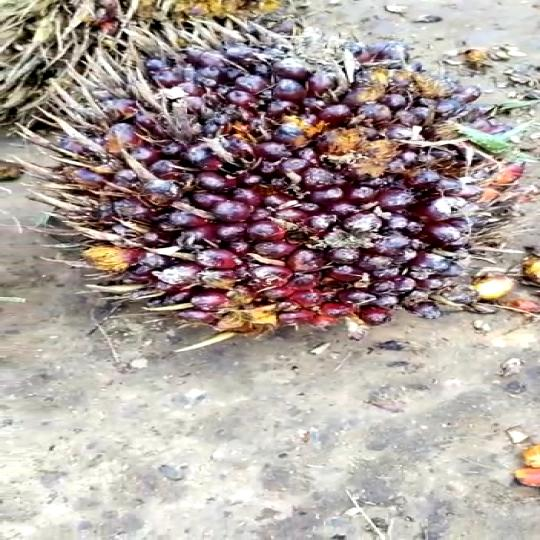masak: (49, 19, 540, 348)
